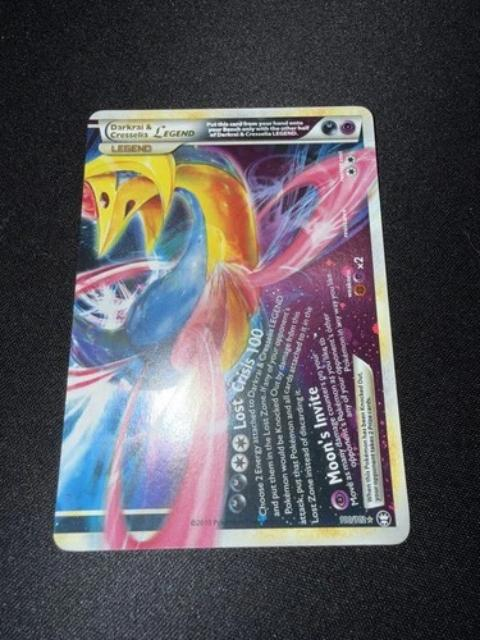Card: (50, 102, 415, 555)
Name: (104, 119, 199, 143)
